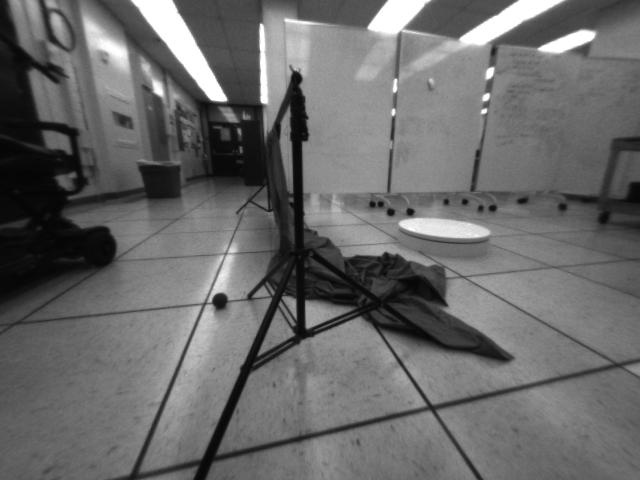dogtoy: (205, 286, 234, 316)
